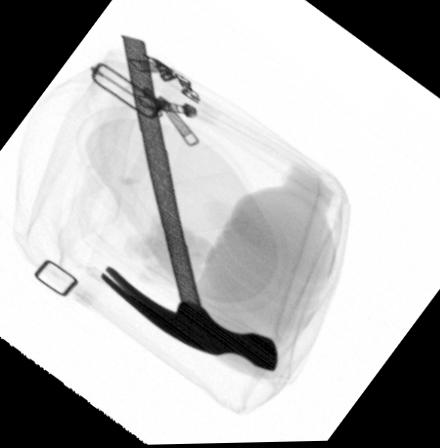Hammer: (97, 33, 280, 375)
